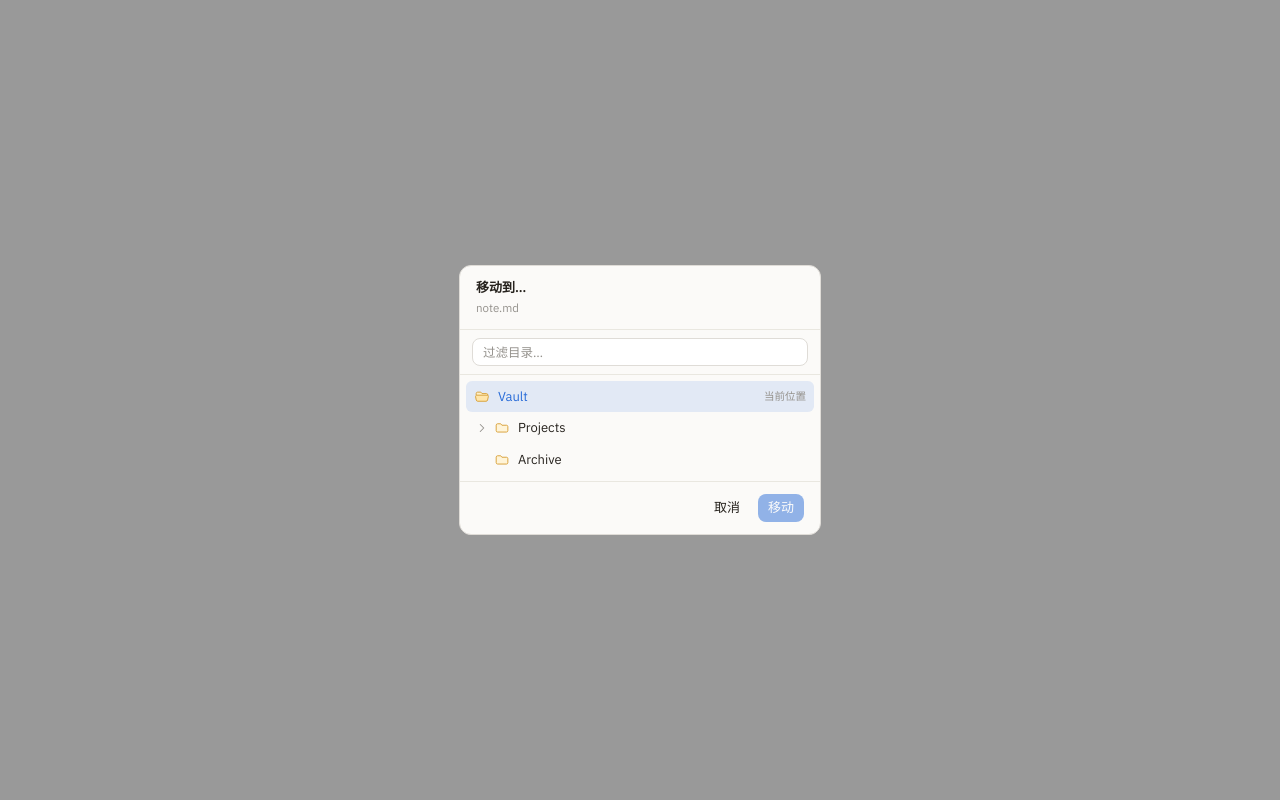
Test: MoveDialog collapsible tree › hides sub-folder after collapsing an expanded parent
Click the button titled "展开 Projects" at (482, 428), box [470,416,494,440]
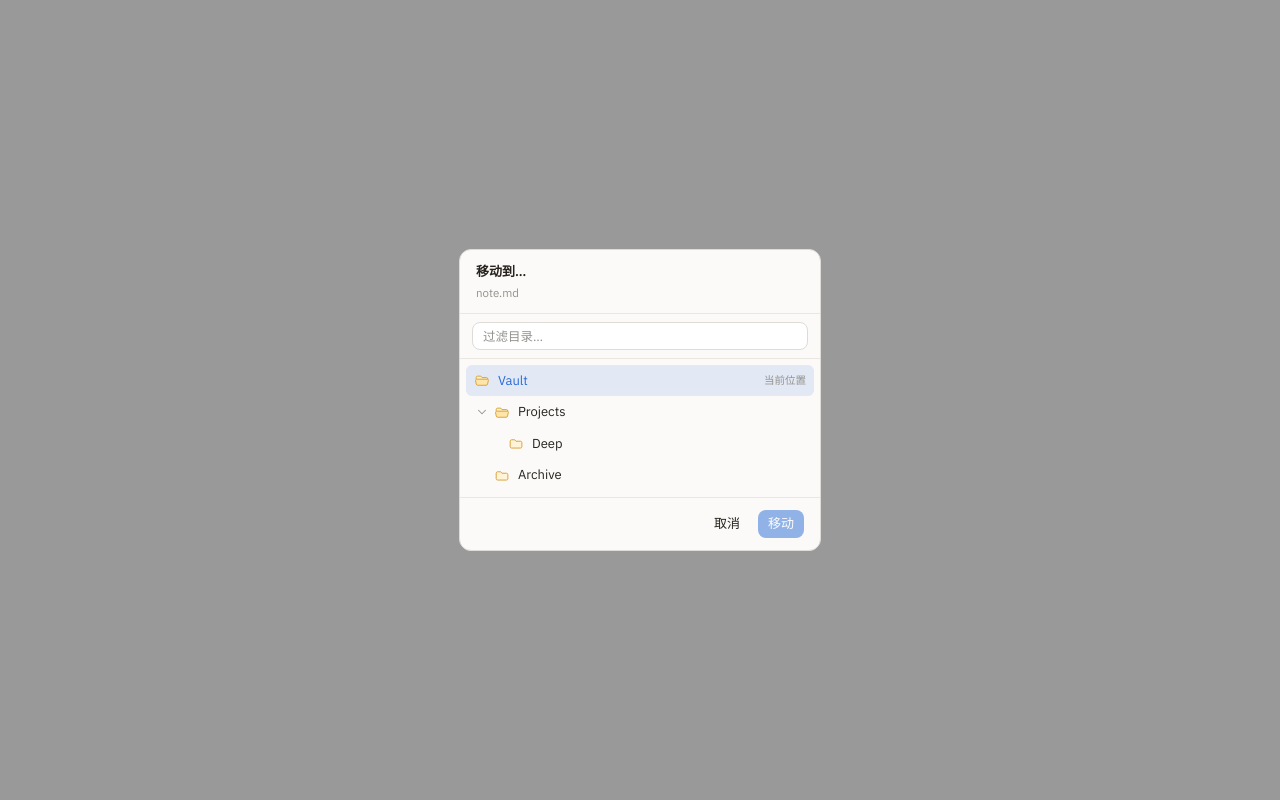
Now the text "Deep" is shown, box [532,434,562,453]
Click the button titled "折叠 Projects" at (482, 412), box [470,400,494,424]
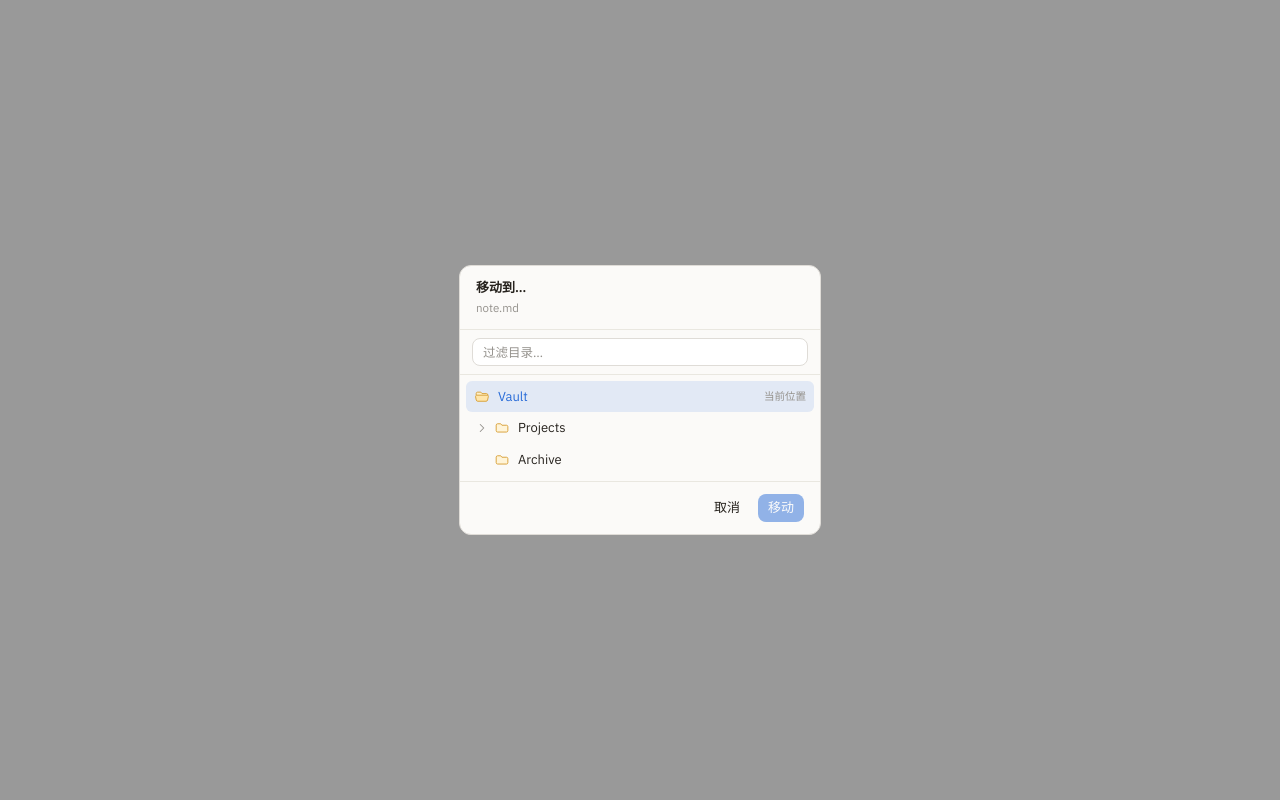
Now the button "Deep" is gone
